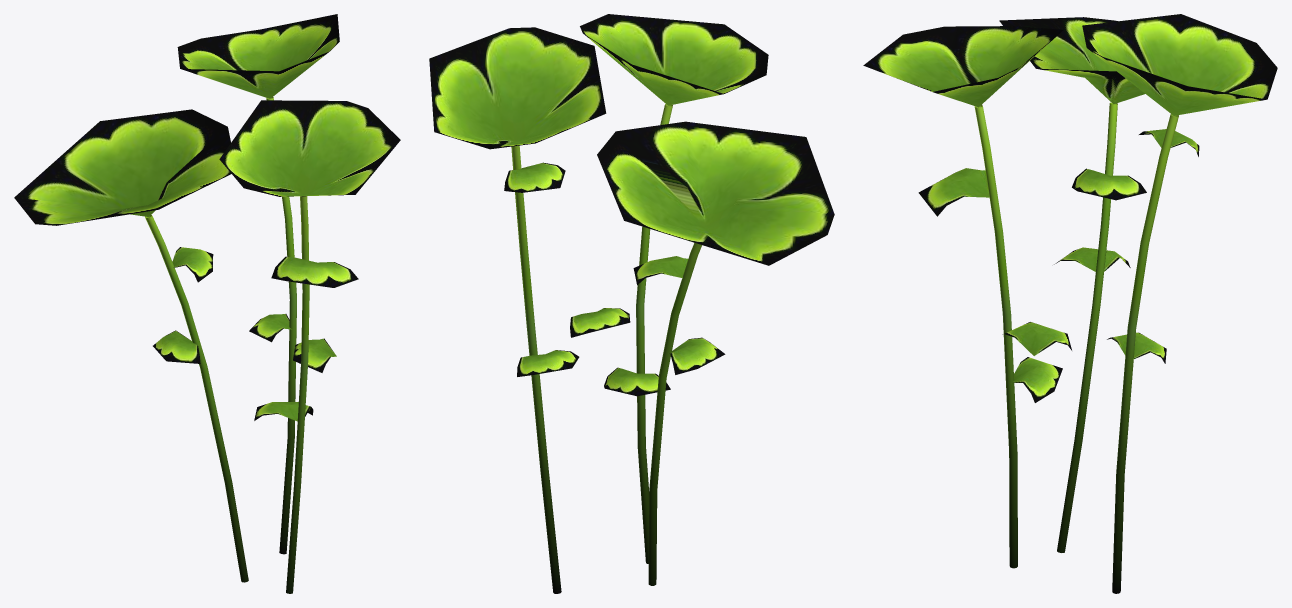
Rendered from clover_1.gltf.
3 views of the same model, side by side, from view 1: azimuth 30°, elevation 25°; view 2: azimuth 150°, elevation 25°; view 3: azimuth 270°, elevation 25° (orthographic). The views are drawn at different scales.
Visible parts, largest first — view 1: Clover_1; view 2: Clover_1; view 3: Clover_1.
Part boxes in pixels (left/top/right/bottom): Clover_1: left=14, top=14, right=400, bottom=593; Clover_1: left=429, top=14, right=834, bottom=593; Clover_1: left=863, top=14, right=1277, bottom=593.
Size of the model in its own units: 0.7963 by 1.14 by 0.7639.
1 material, 1 textured.
